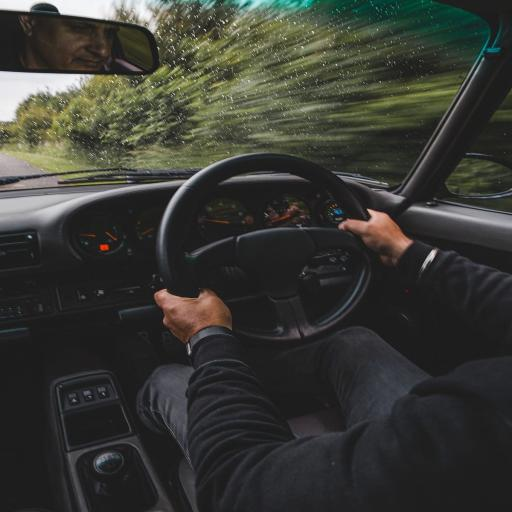Hands-on-the-Wheel: (130, 268, 277, 357), (328, 196, 432, 269)
